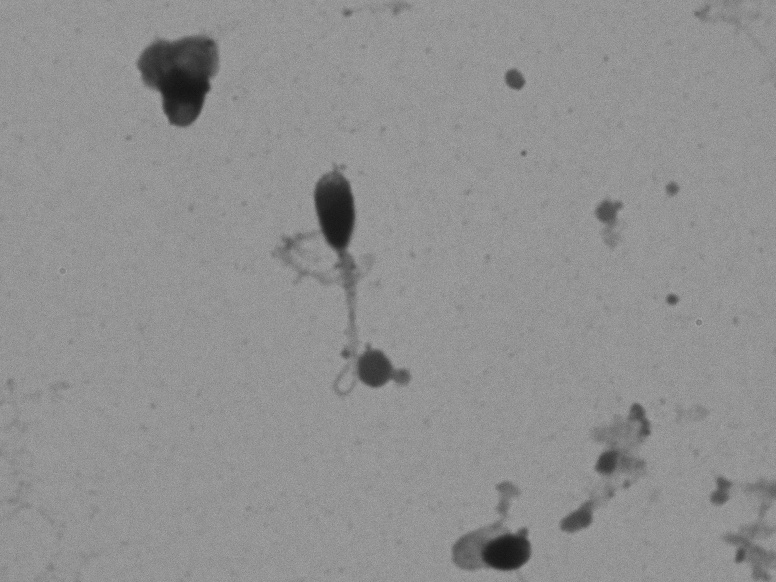Abnormal: (244, 139, 370, 423), (404, 460, 557, 580)
